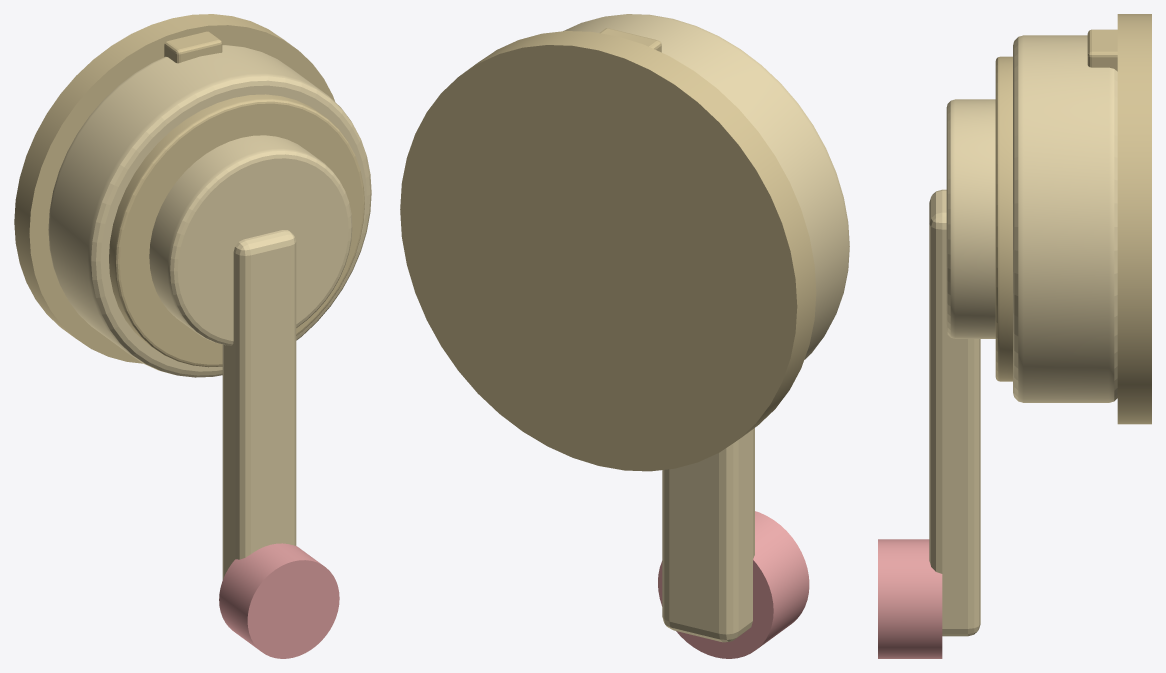
Rendered from crank-hotata-y024-2m-v1.glb.
3 views of the same model, side by side, from view 1: azimuth 30°, elevation 25°; view 2: azimuth 150°, elevation 25°; view 3: azimuth 270°, elevation 25° (orthographic). The views are drawn at different scales.
Visible parts, largest first — view 1: housing, hub, crank-arm, face-ring, wall-base, grip, wire-guide; view 2: wall-base, housing, crank-arm, grip; view 3: housing, crank-arm, wall-base, hub, grip, face-ring, wire-guide.
Boxes of the visible parts, x1,y1,x2,y2 form: housing: (48, 45, 371, 377); hub: (149, 135, 352, 345); crank-arm: (222, 230, 296, 579); face-ring: (109, 94, 364, 367); wall-base: (14, 14, 334, 363); grip: (219, 543, 339, 658); wire-guide: (164, 31, 222, 63); wall-base: (400, 31, 816, 471); housing: (563, 14, 849, 359); crank-arm: (662, 428, 754, 642); grip: (658, 511, 809, 658); housing: (1013, 35, 1117, 402); crank-arm: (929, 189, 980, 636); wall-base: (1117, 14, 1151, 424); hub: (946, 99, 995, 338); grip: (878, 539, 942, 658); face-ring: (995, 56, 1012, 381); wire-guide: (1087, 29, 1117, 71).
Bounding box in the file's own units: 0.096 × 0.16 × 0.064.
